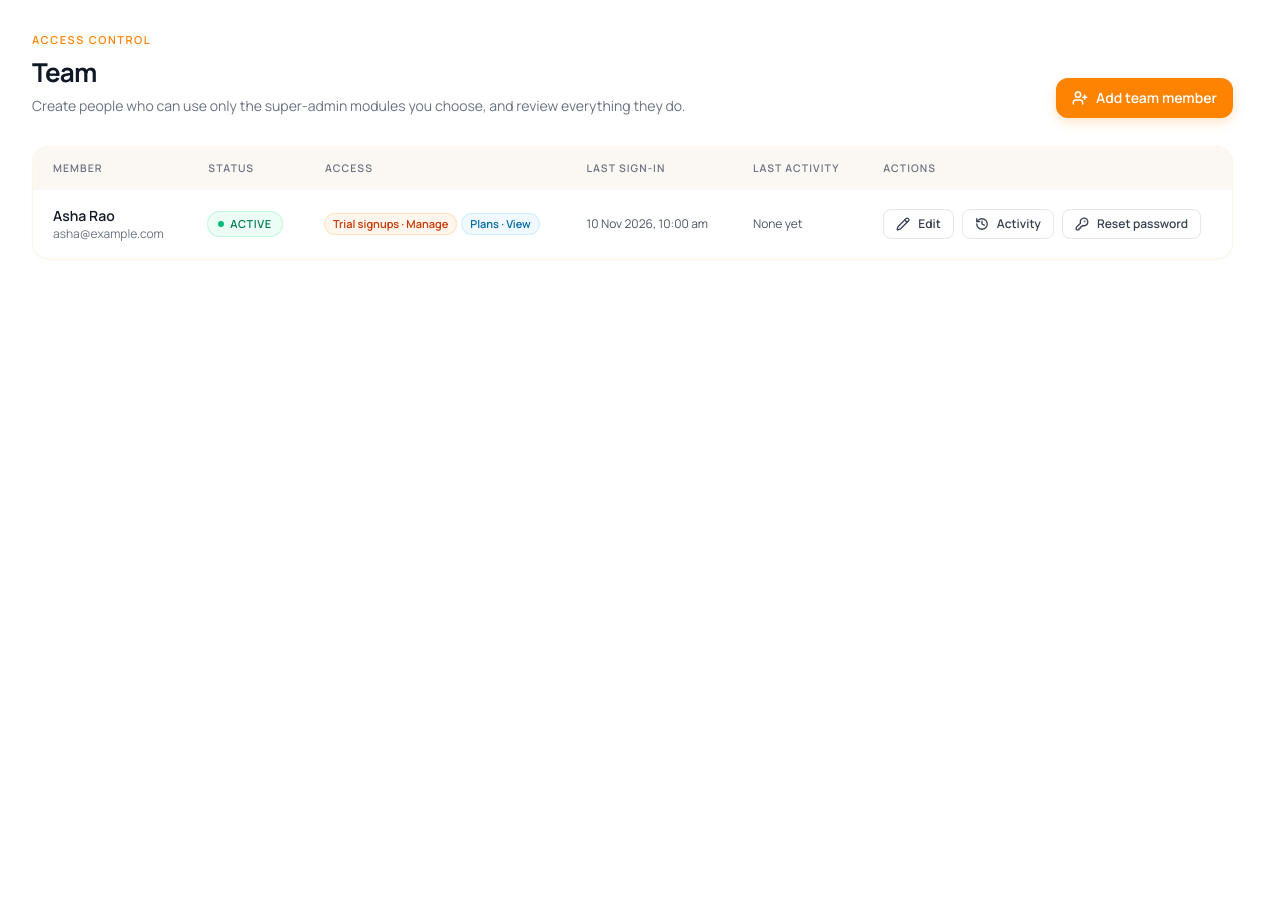
Scenario: Reset password › confirms, then shows the new temporary password once
Click the button with aria-label "Reset password for Asha Rao" at (1132, 224), box top-left (1062, 209), bottom-right (1201, 239)
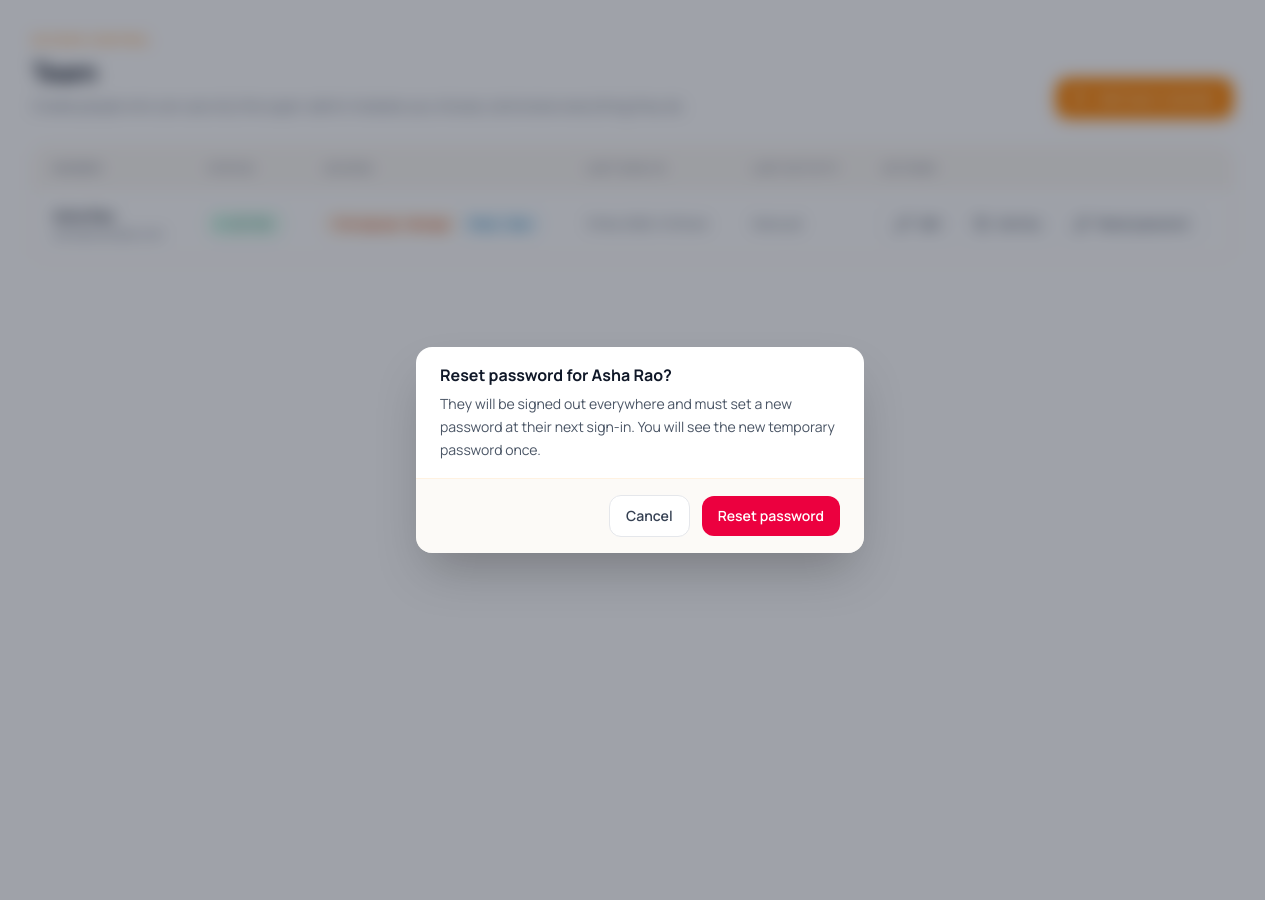
Click the button "Reset password" at (771, 516), box top-left (702, 496), bottom-right (840, 536)
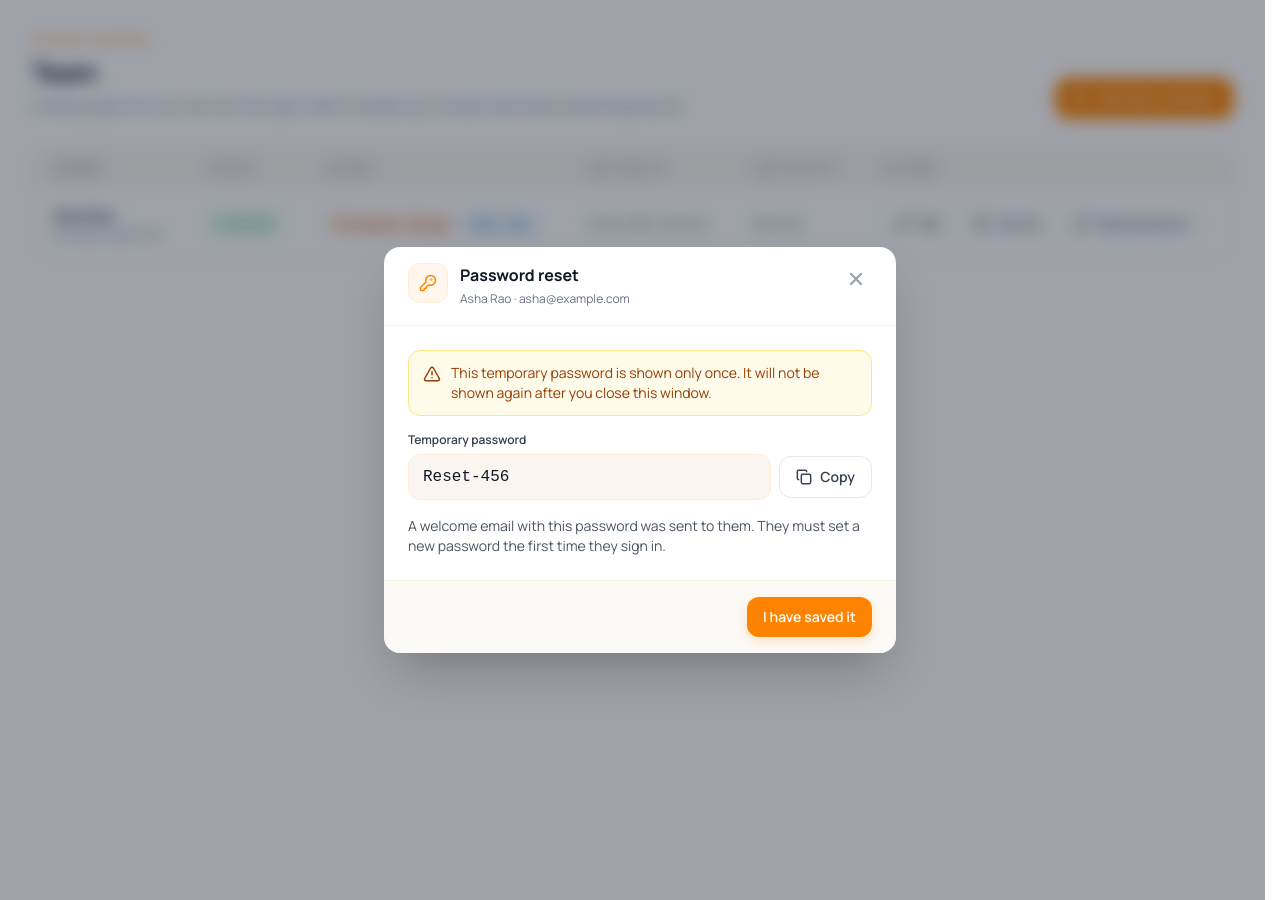
expect the text with test id "temp-password" reads "Reset-456": met, box top-left (423, 468), bottom-right (509, 486)
expect the text "welcome email with this password was sent" is shown: met, box top-left (408, 516), bottom-right (754, 535)
Click the button "I have saved it" at (810, 617), box top-left (747, 597), bottom-right (872, 637)
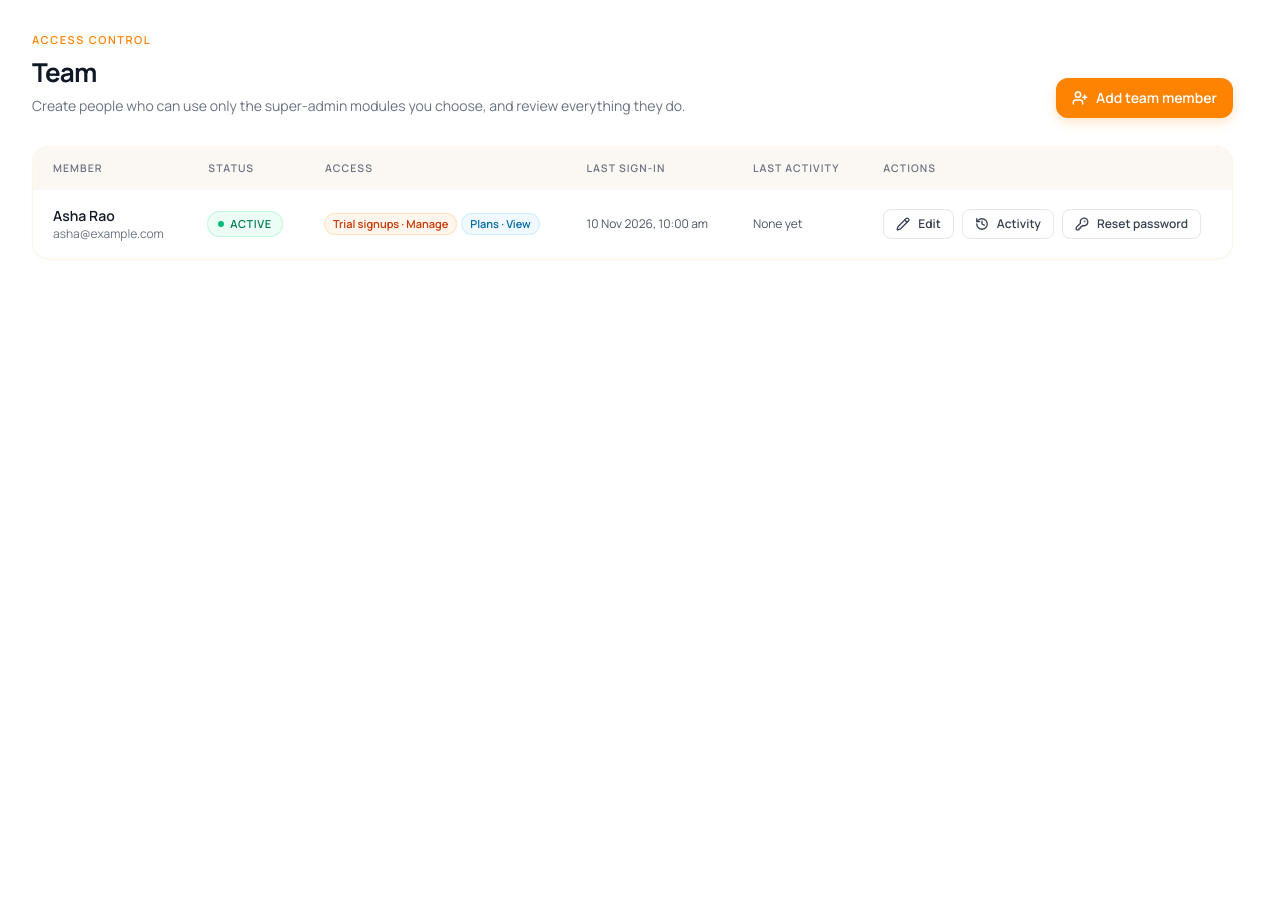
expect the text "Reset-456" is gone: met
